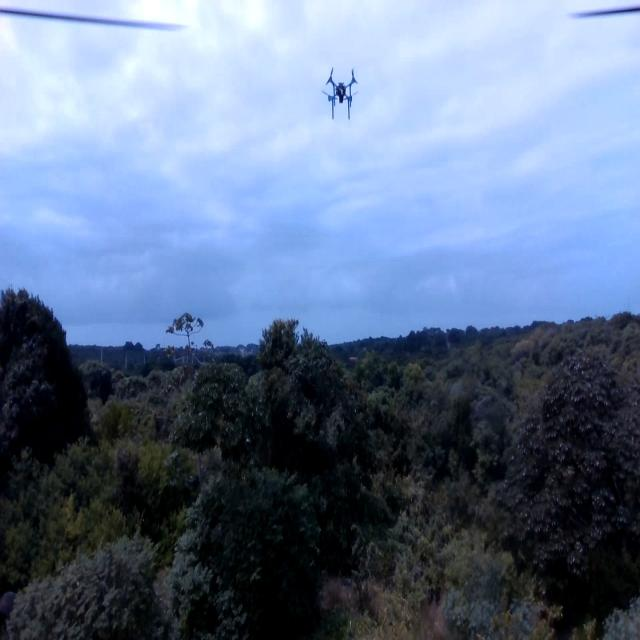-uav-: (310, 62, 368, 134)
